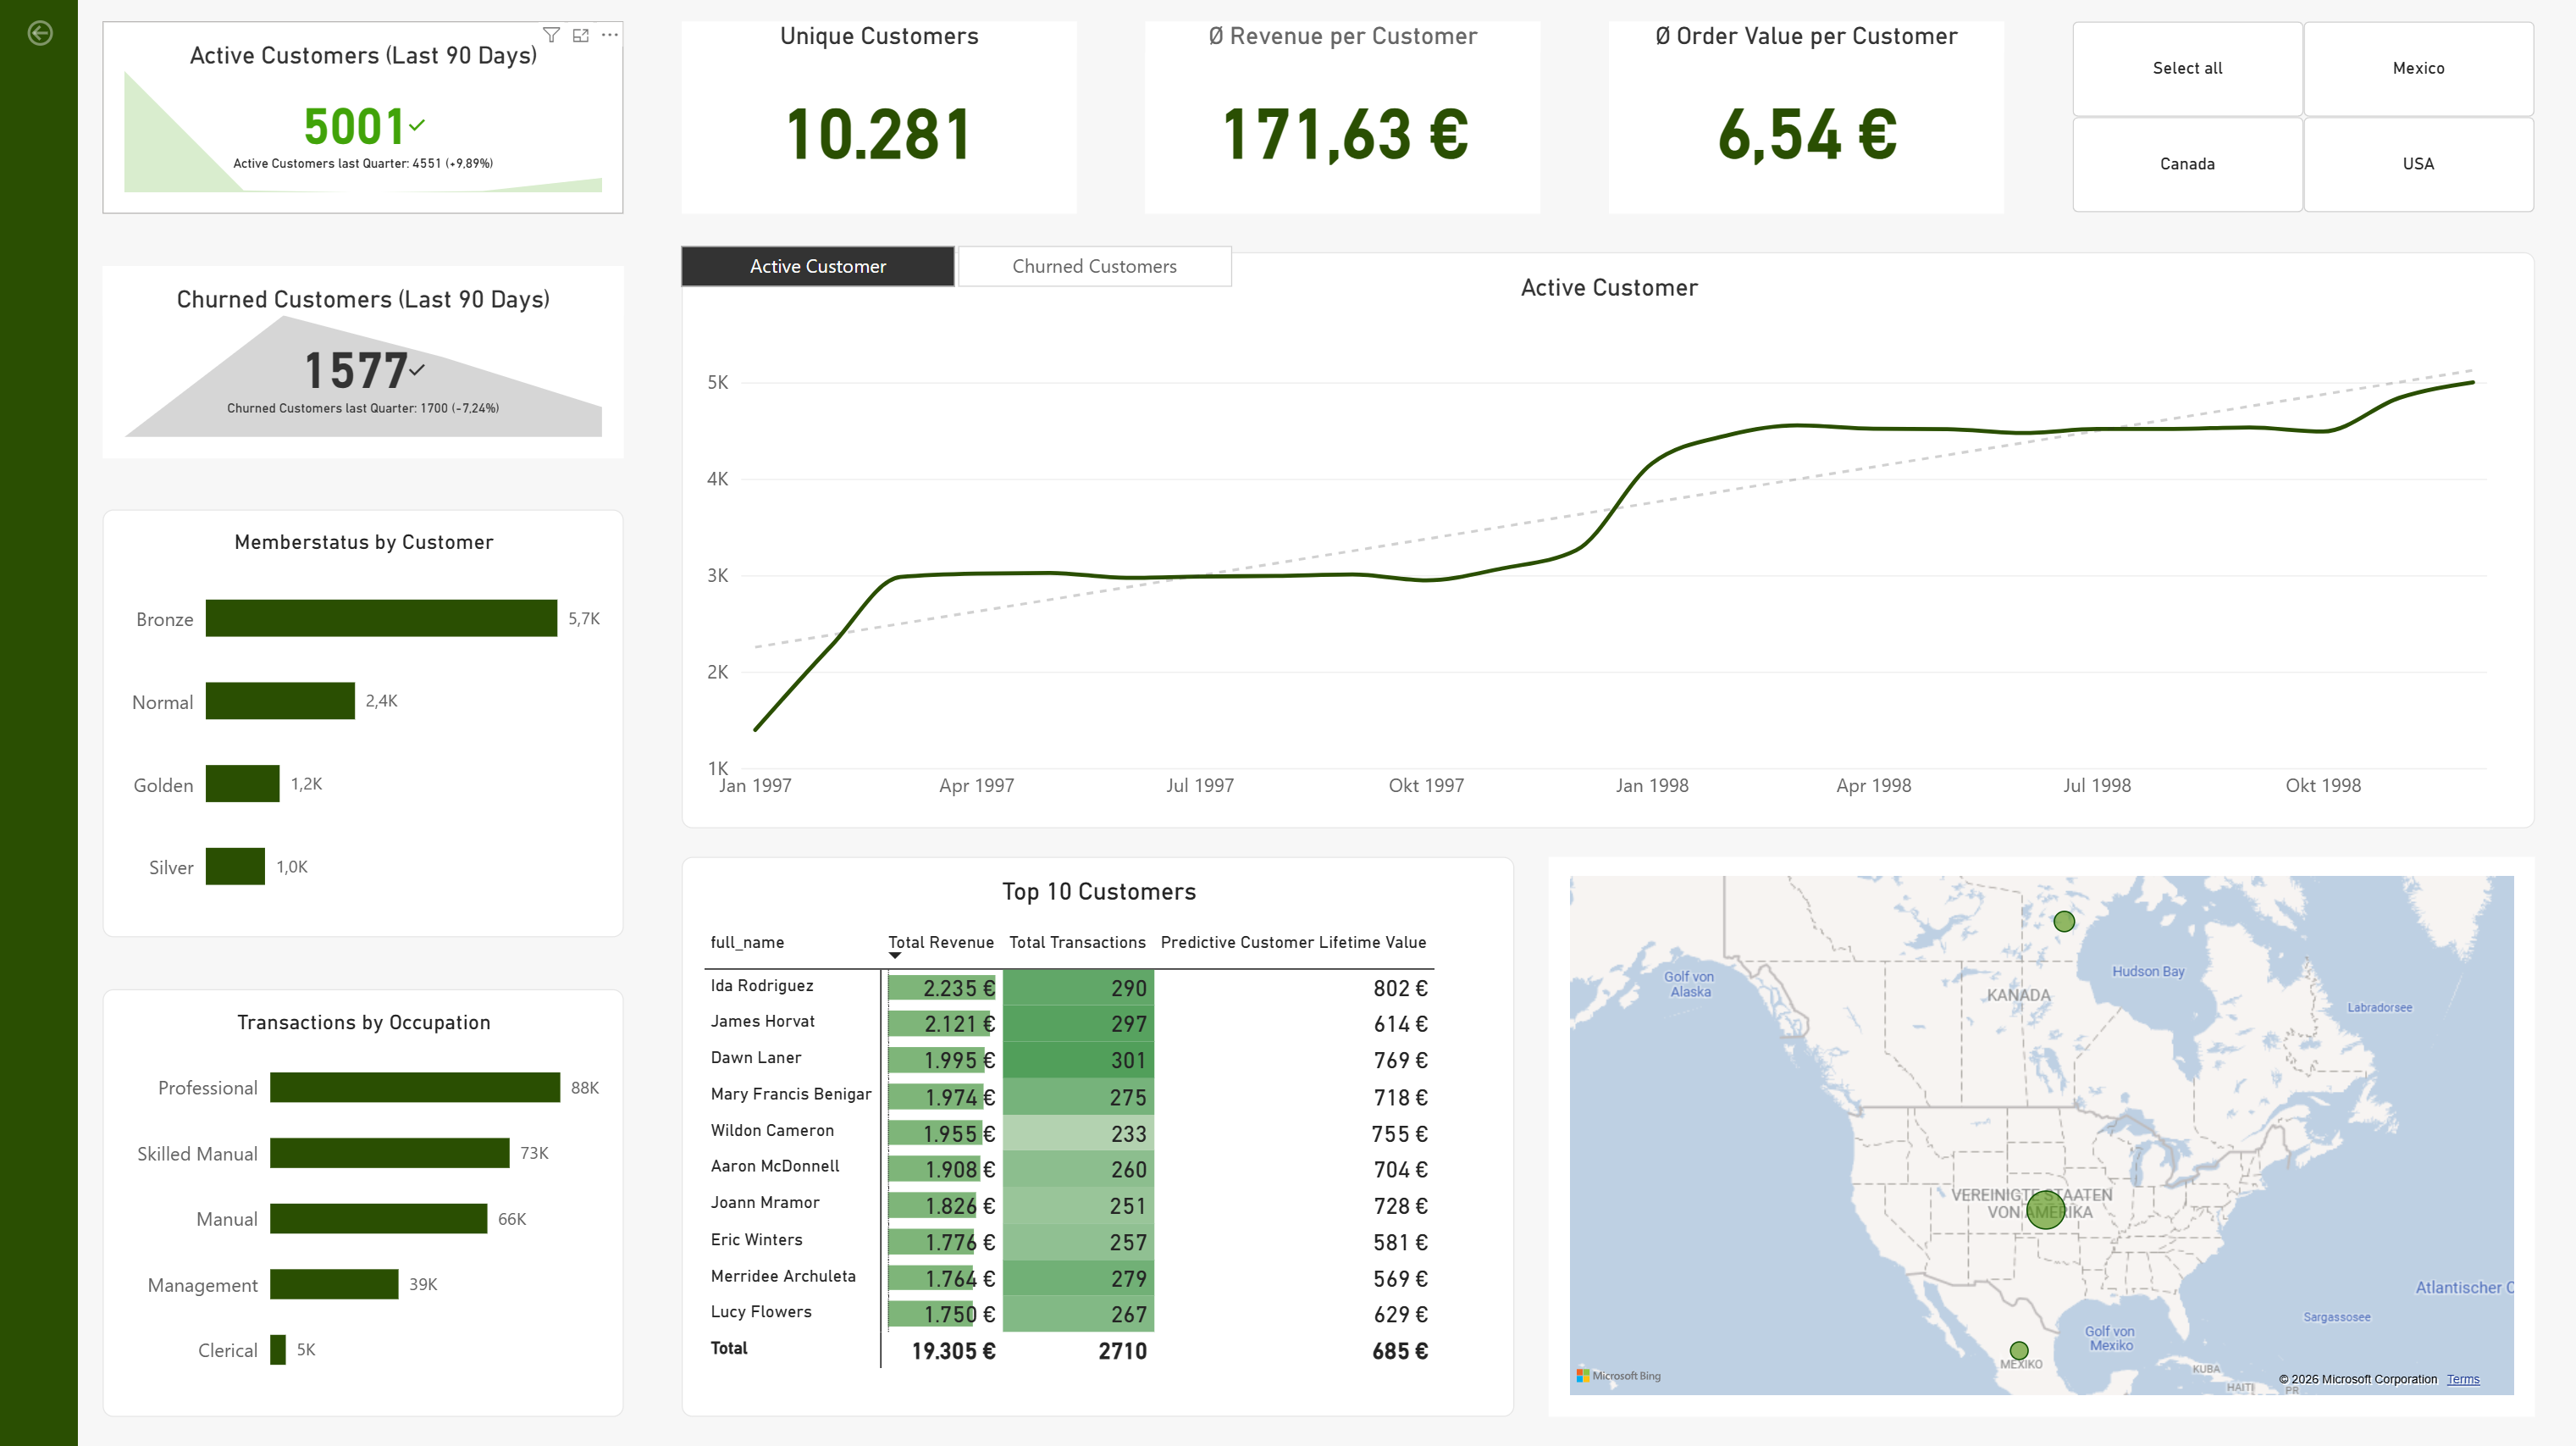

This screenshot's page, from the dashboard's own definition file:
{"tool":"powerbi","page":{"name":"Customer Detail","canvas":[1920,1080],"ordinal":2},"visuals":[{"type":"pivotTable","title":"Top 10 Customers","fields":{"Rows":["Customers.full_name"],"Values":["Measure Table.Total Revenue","Measure Table.Total Transactions","Measure Table.Predictive Customer Lifetime Value"]},"box":[507.6,638.4,620.3,416.9],"z":0},{"type":"shape","box":[0,0,58,1080],"z":1000},{"type":"actionButton","box":[0.8,0,58,50],"z":2000},{"type":"clusteredBarChart","title":"Memberstatus by Customer","fields":{"Category":["Customers.member_card"],"Y":["Measure Table.Total Customers"]},"box":[76.5,380.2,387.8,318.4],"z":3000},{"type":"clusteredBarChart","title":"Transactions by Occupation","fields":{"Category":["Customers.occupation"],"Y":["Measure Table.Total Transactions"]},"box":[76.5,736.9,387.8,318.4],"z":4000},{"type":"map","fields":{"Category":["Customers.customer_country","Customers.customer_state_province","Customers.customer_city"],"Size":["Measure Table.Total Customers"]},"box":[1153.1,638.4,734.6,416.9],"z":5000},{"type":"advancedSlicerVisual","fields":{"Values":["Customers.customer_country"]},"box":[1543.3,16.6,344.4,143.4],"z":6000},{"type":"cardVisual","title":"Ø Revenue per Customer","fields":{"Data":["Measure Table.CLV"]},"box":[852.8,16.6,294.8,143.4],"z":7000},{"type":"cardVisual","title":"Ø Order Value per Customer","fields":{"Data":["Measure Table.AVG Order Value"]},"box":[1198,16.6,294.8,143.4],"z":8000},{"type":"cardVisual","title":"Unique Customers","fields":{"Data":["Measure Table.Total Customers"]},"box":[507.6,16.6,294.8,143.4],"z":9000},{"type":"kpi","title":"Active Customers (Last 90 Days)","fields":{"Goal":["Measure Table.Active Customer (Last Quarter)"],"Indicator":["Measure Table.Active Customer (Last 90 Days)"],"TrendLine":["Calendar.Quarter of Year"]},"box":[76.5,16.6,387.8,143.4],"z":10000},{"type":"kpi","title":"Churned Customers (Last 90 Days)","fields":{"Goal":["Measure Table.Churned Customers (180 Days)"],"Indicator":["Measure Table.Churned Customers (90 Days)"],"TrendLine":["Calendar.Quarter of Year"]},"box":[76.5,198.4,387.8,143.4],"z":11000},{"type":"lineChart","fields":{"Category":["Calendar.Start of Month"],"Y":["Measure Table.Active Customer (Last 90 Days)"]},"box":[507.6,188.4,1380.1,428.8],"z":12000},{"type":"slicer","fields":{"Values":["Customer Metric Selection.Customer Metric Selection"]},"box":[486.3,181.3,450,34.7],"z":13000}]}

Visuals, with their boxes on the page's 1920x1080 design canvas (x1, y1, x2, y2). These are canvas units, not pixel positions in the 2576x1446 screenshot, which may show the page scaled, cropped or inside an application window:
"Top 10 Customers" pivotTable: 508/638/1128/1055
shape: 0/0/58/1080
actionButton: 1/0/59/50
"Memberstatus by Customer" clusteredBarChart: 76/380/464/699
"Transactions by Occupation" clusteredBarChart: 76/737/464/1055
map - Customers.customer_country x Customers.customer_state_province: 1153/638/1888/1055
advancedSlicerVisual - Customers.customer_country: 1543/17/1888/160
"Ø Revenue per Customer" cardVisual: 853/17/1148/160
"Ø Order Value per Customer" cardVisual: 1198/17/1493/160
"Unique Customers" cardVisual: 508/17/802/160
"Active Customers (Last 90 Days)" kpi: 76/17/464/160
"Churned Customers (Last 90 Days)" kpi: 76/198/464/342
lineChart - Calendar.Start of Month x Measure Table.Active Customer (Last 90 Days): 508/188/1888/617
slicer - Customer Metric Selection.Customer Metric Selection: 486/181/936/216
